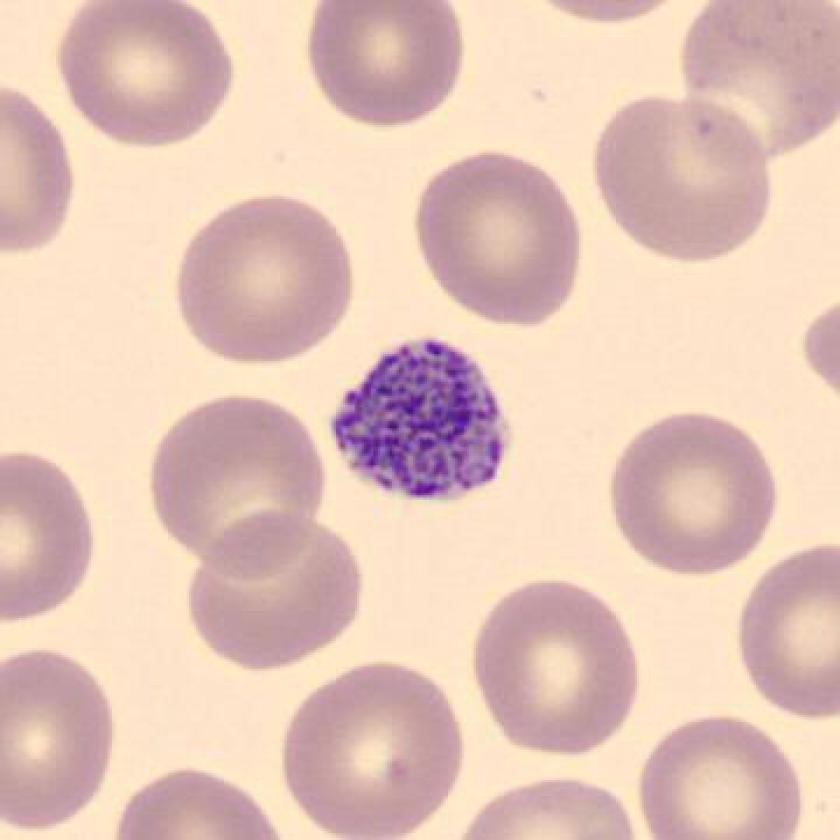platelets: (328, 335, 517, 506)
